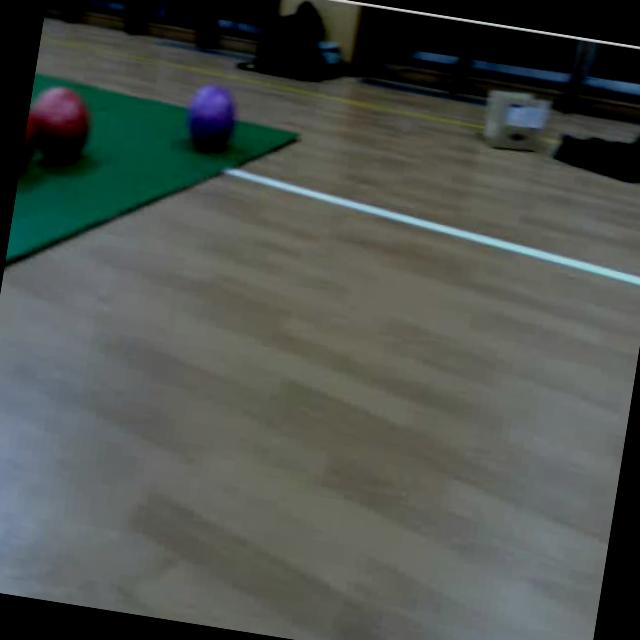purple_ball: (183, 83, 243, 157)
red_ball: (26, 81, 98, 170), (18, 106, 44, 184)
